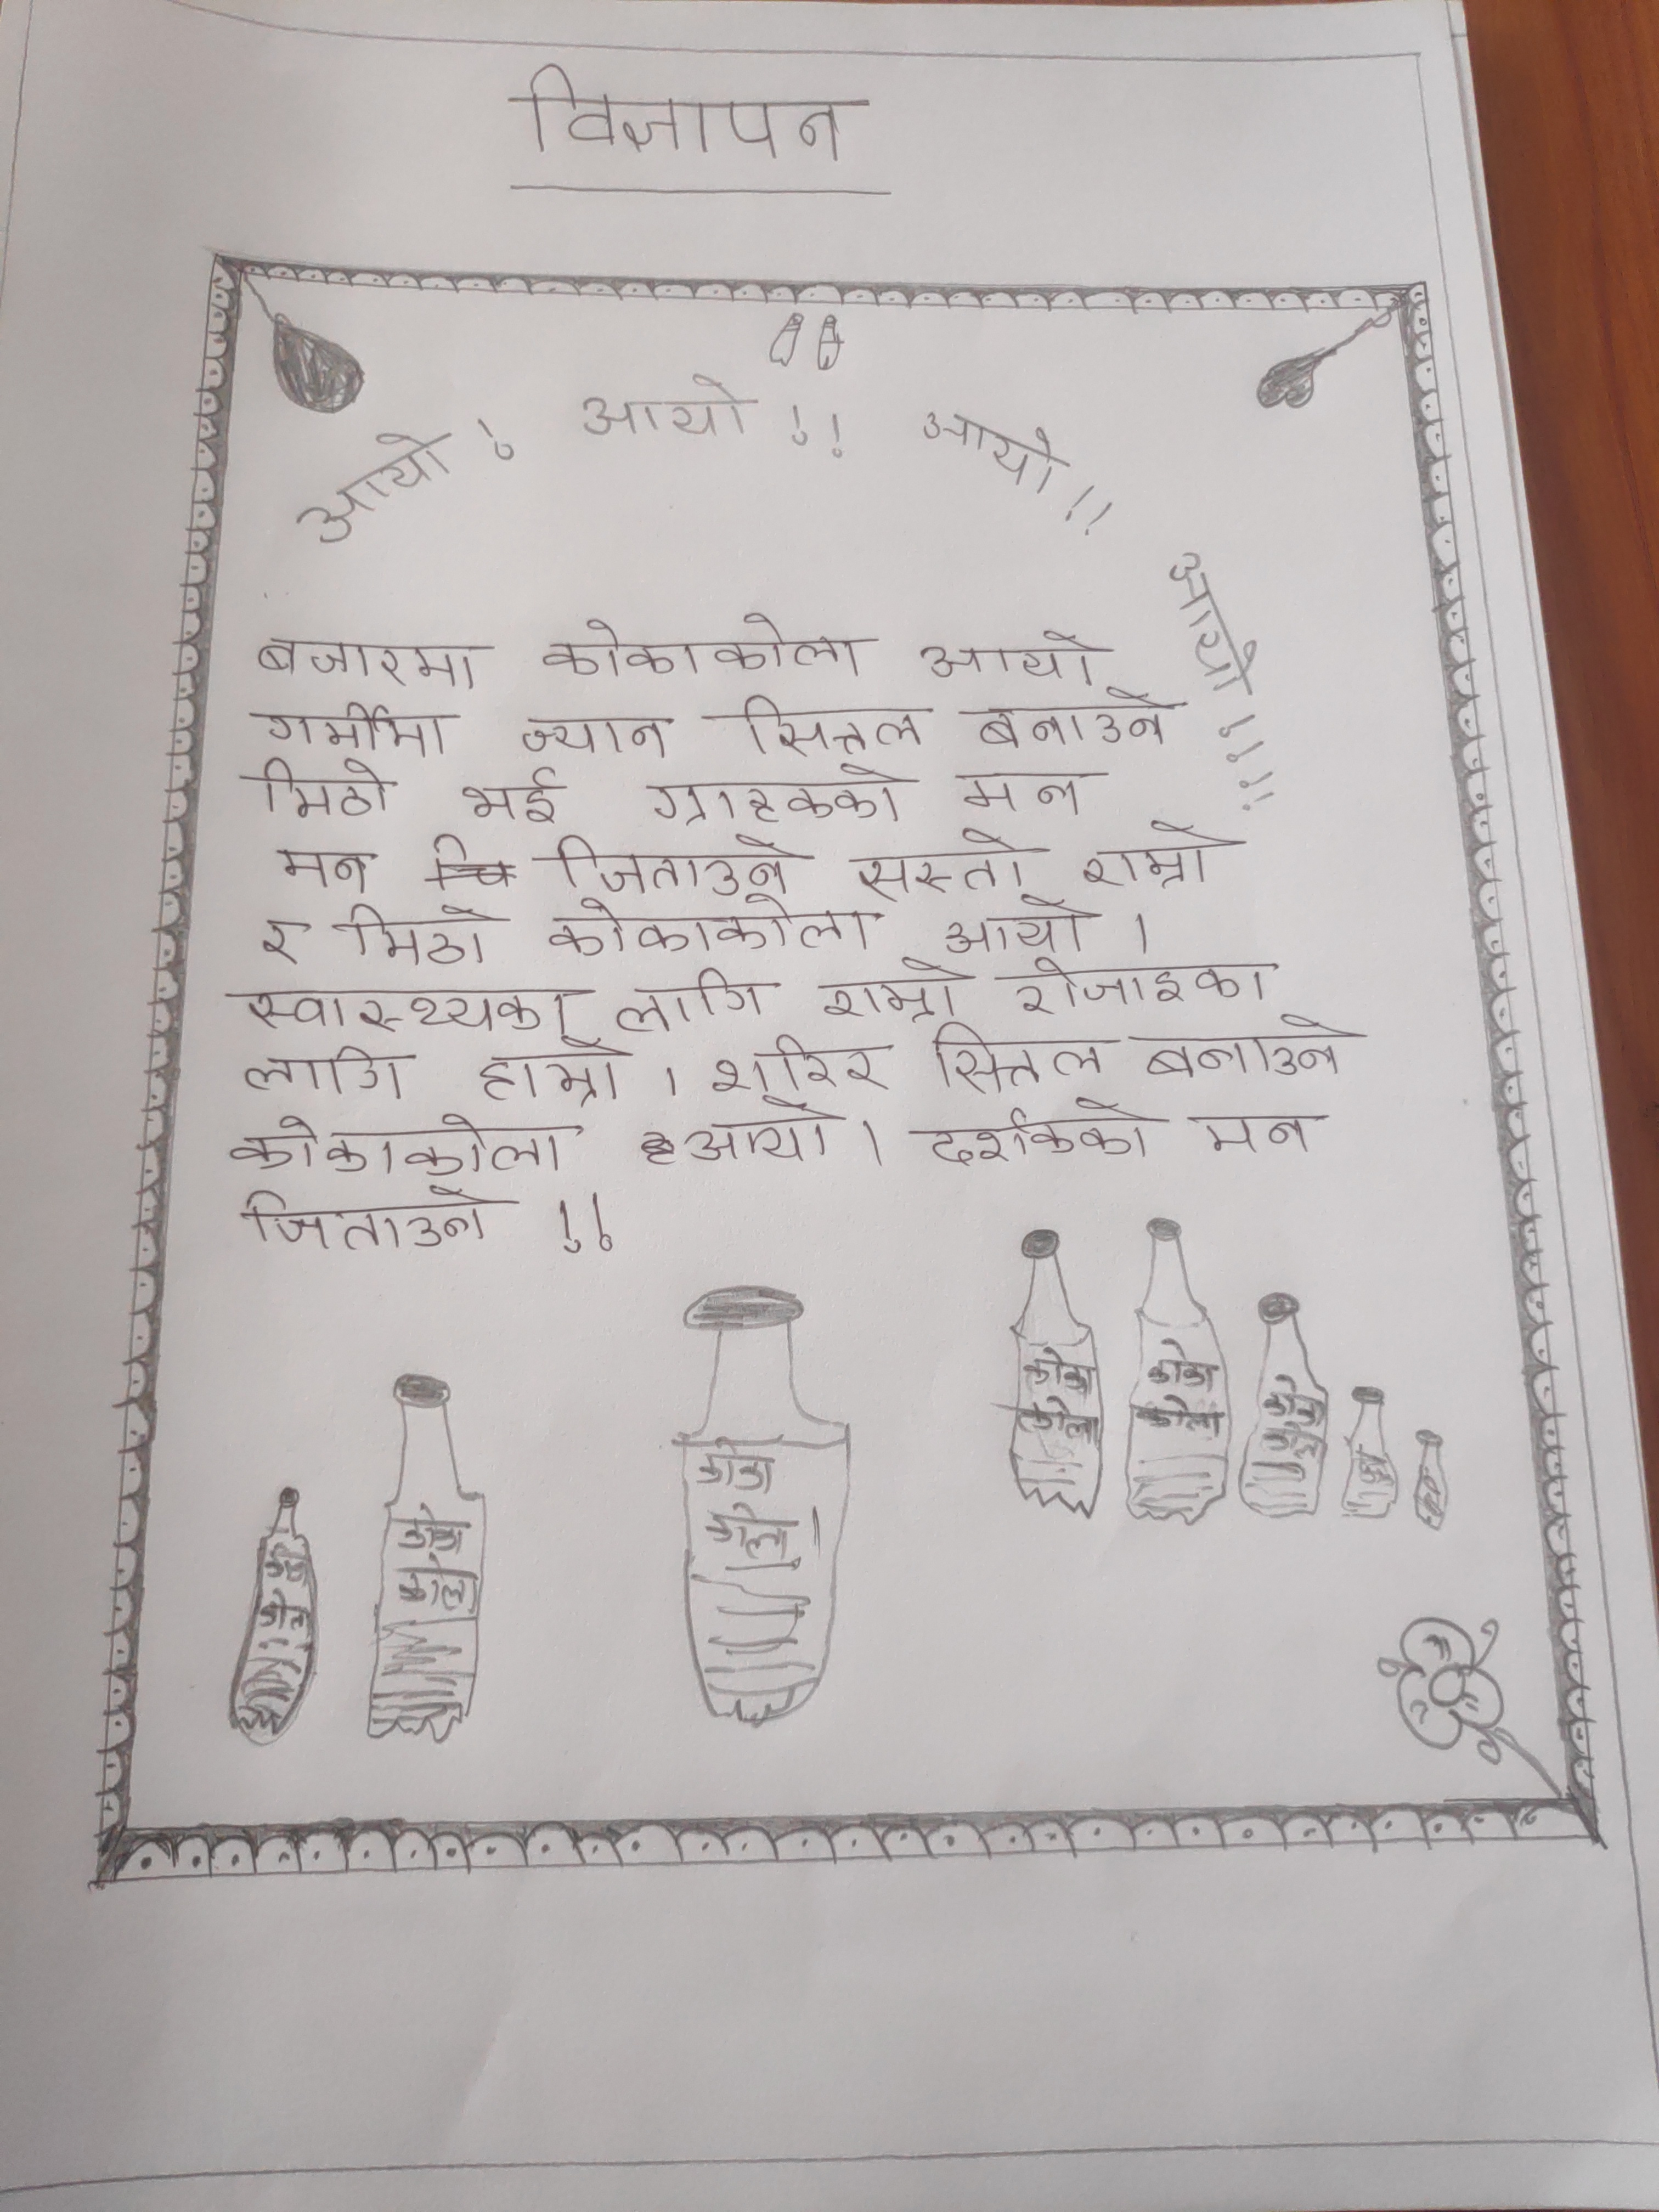text: (505, 61, 870, 174), (223, 1104, 563, 1181), (234, 1174, 504, 1256), (286, 423, 460, 549), (540, 613, 868, 678), (537, 897, 882, 958), (235, 977, 577, 1036), (906, 1094, 1155, 1172), (995, 954, 1284, 1021), (551, 824, 817, 895), (648, 761, 922, 826), (913, 397, 1065, 502), (240, 634, 491, 693), (1164, 552, 1265, 697), (730, 683, 924, 758), (958, 693, 1183, 756), (929, 1019, 1117, 1090), (573, 374, 770, 442), (1134, 1015, 1347, 1078), (918, 629, 1112, 693), (610, 958, 765, 1038), (335, 892, 486, 970), (251, 697, 451, 756), (225, 1036, 408, 1101), (852, 833, 1037, 895), (687, 1099, 843, 1170), (706, 1033, 894, 1092), (1077, 820, 1230, 892), (810, 954, 967, 1024), (471, 1040, 633, 1104), (936, 895, 1101, 956), (251, 758, 394, 820), (957, 761, 1094, 820), (518, 709, 674, 756), (1190, 1109, 1328, 1158), (270, 834, 382, 894), (450, 768, 558, 829), (251, 914, 305, 968)
